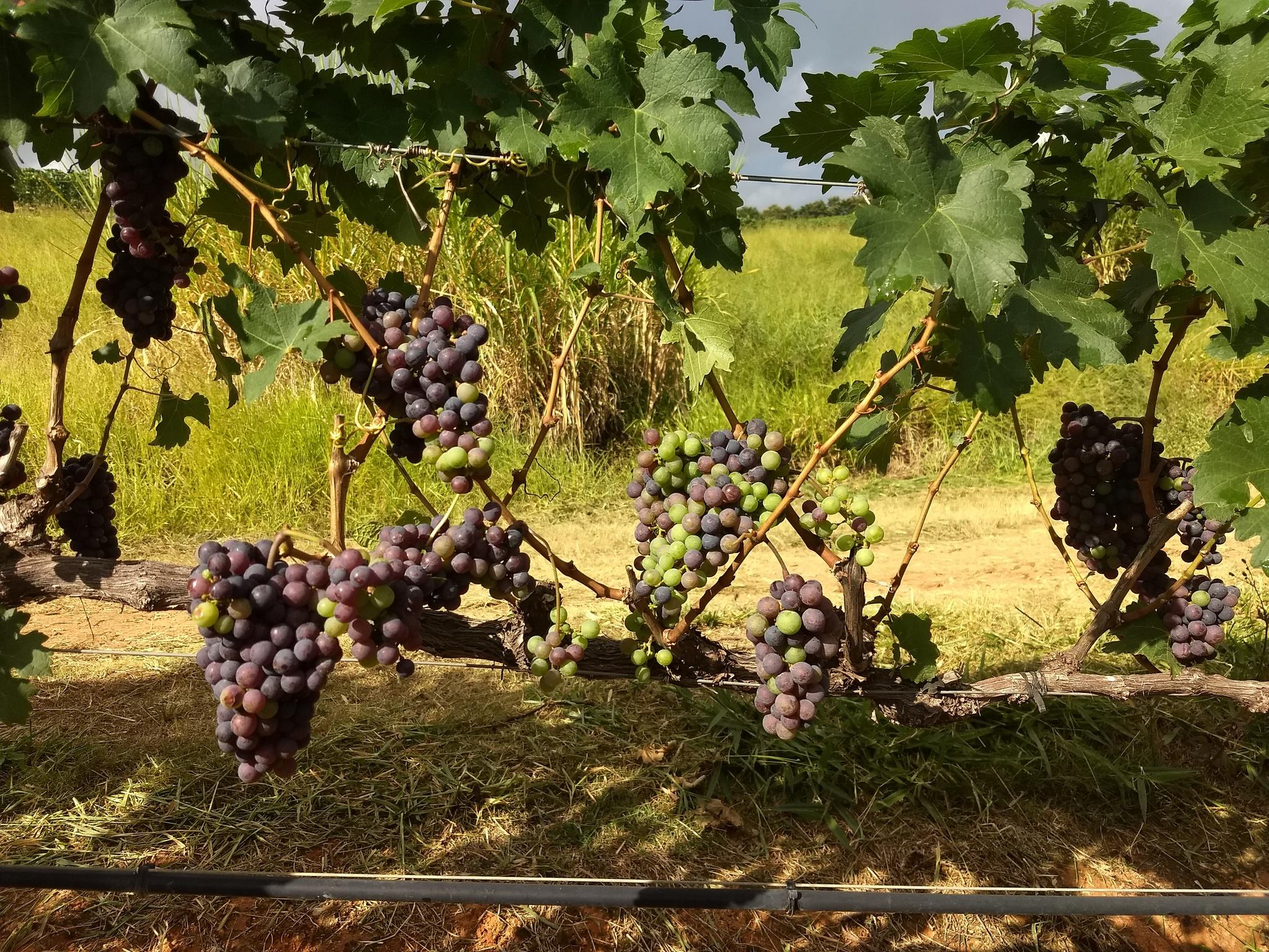Grape Ripe: (189, 531, 326, 790)
Grape Unripe: (812, 459, 879, 568)
